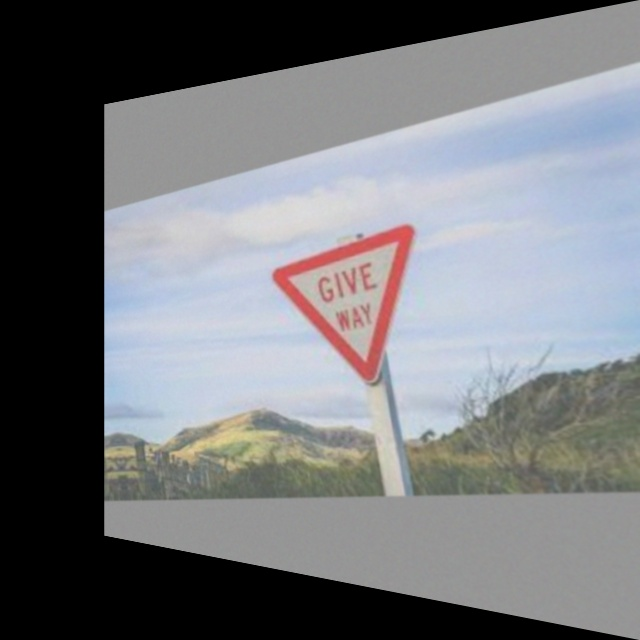Give_Way: (270, 224, 441, 394)
